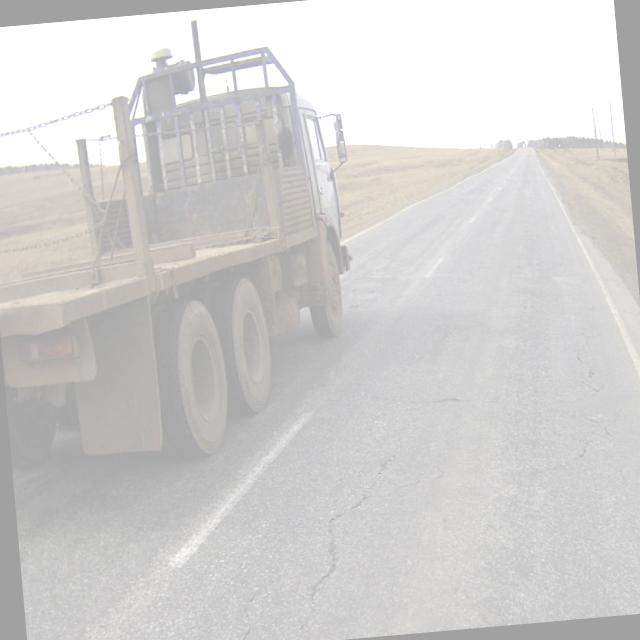road: (11, 147, 640, 640)
